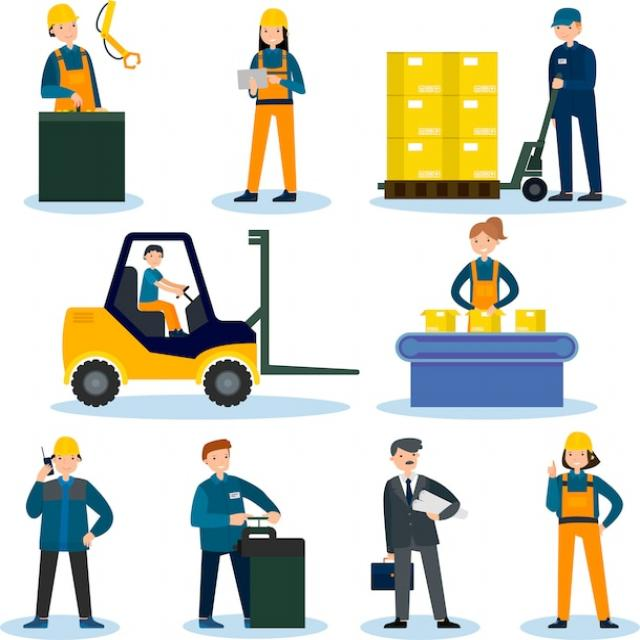Safety-Helmet: (44, 2, 81, 31), (561, 428, 596, 454), (548, 5, 584, 30), (257, 5, 290, 31), (50, 434, 83, 459)
